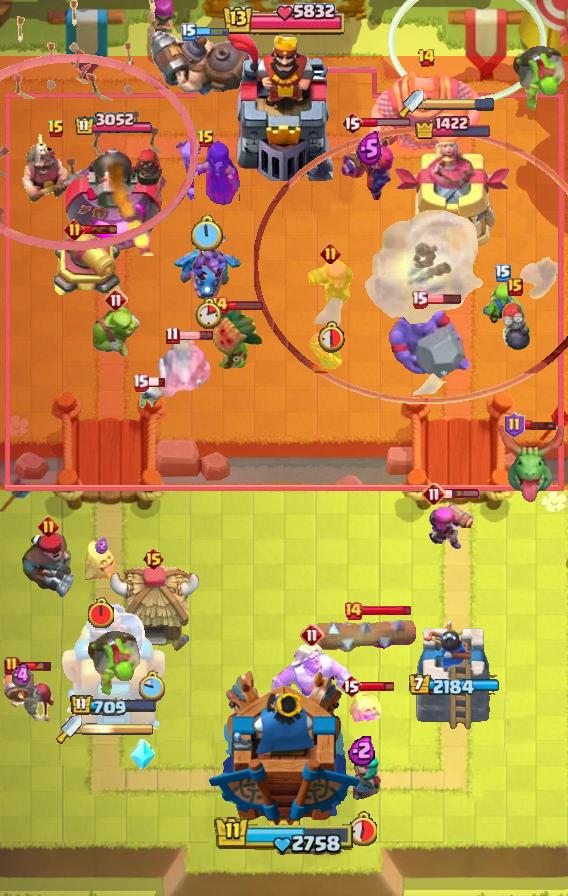archer: (309, 332, 345, 380)
bar: (361, 604, 412, 617), (361, 117, 412, 128), (360, 680, 395, 693), (444, 488, 481, 500), (522, 419, 558, 431), (426, 293, 462, 305), (18, 660, 53, 672), (195, 26, 230, 38), (177, 330, 214, 341), (227, 300, 264, 311), (83, 224, 118, 235), (146, 376, 166, 388)
bar-level: (300, 623, 324, 647), (422, 482, 446, 506), (104, 288, 128, 312), (142, 547, 165, 571), (504, 412, 525, 438), (340, 674, 362, 698), (341, 111, 363, 135), (38, 516, 59, 537), (320, 243, 341, 264), (64, 219, 85, 240), (343, 601, 363, 621), (209, 295, 229, 315), (417, 48, 436, 68), (197, 129, 215, 149), (47, 119, 65, 139), (132, 373, 149, 392), (411, 290, 428, 309), (4, 656, 20, 676), (507, 278, 523, 296), (495, 264, 511, 282), (181, 23, 197, 41), (165, 326, 180, 345)
bomber: (499, 301, 531, 351)
cannoneer-tower: (64, 138, 165, 256)
clock: (189, 215, 223, 254), (347, 811, 377, 846), (86, 597, 116, 630), (315, 320, 345, 353), (139, 670, 167, 702), (195, 297, 222, 329)
dagger-duchess-tower: (59, 595, 169, 731), (394, 142, 512, 256)
dagger-duchess-tower-bar: (82, 722, 154, 736), (424, 97, 496, 111)
dart-goblin: (206, 301, 264, 371)
electro-dragon: (171, 239, 243, 301)
elixir: (356, 131, 383, 166), (348, 734, 377, 766), (12, 662, 31, 690), (95, 537, 108, 554)
firecracker: (304, 254, 356, 308), (426, 499, 476, 551)
firecracker-evolution: (339, 122, 399, 202)
goblin: (481, 283, 525, 325)
goblin-ball: (85, 628, 143, 700), (510, 43, 568, 115)
goblin-brawler: (85, 304, 147, 360)
heal-spirit: (83, 540, 119, 582), (347, 690, 383, 728)
hunter: (19, 531, 77, 601)
ice-spirit-evolution-symbol: (129, 739, 155, 771)
king-tower: (207, 669, 362, 826), (223, 31, 345, 181)
king-tower-bar: (214, 815, 355, 856), (221, 0, 347, 40)
miner: (21, 132, 92, 204)
minion: (190, 235, 226, 283)
queen-tower: (409, 616, 497, 731)
rascal-girl: (341, 752, 383, 802)
royal-ghost: (155, 334, 213, 402)
skeleton: (138, 380, 166, 410)
the-log: (314, 615, 417, 653)
tower-bar: (407, 674, 500, 698), (70, 694, 158, 718), (74, 112, 154, 137), (414, 115, 493, 140)
wall-breaker: (0, 666, 56, 724)
witch: (172, 138, 240, 206)
